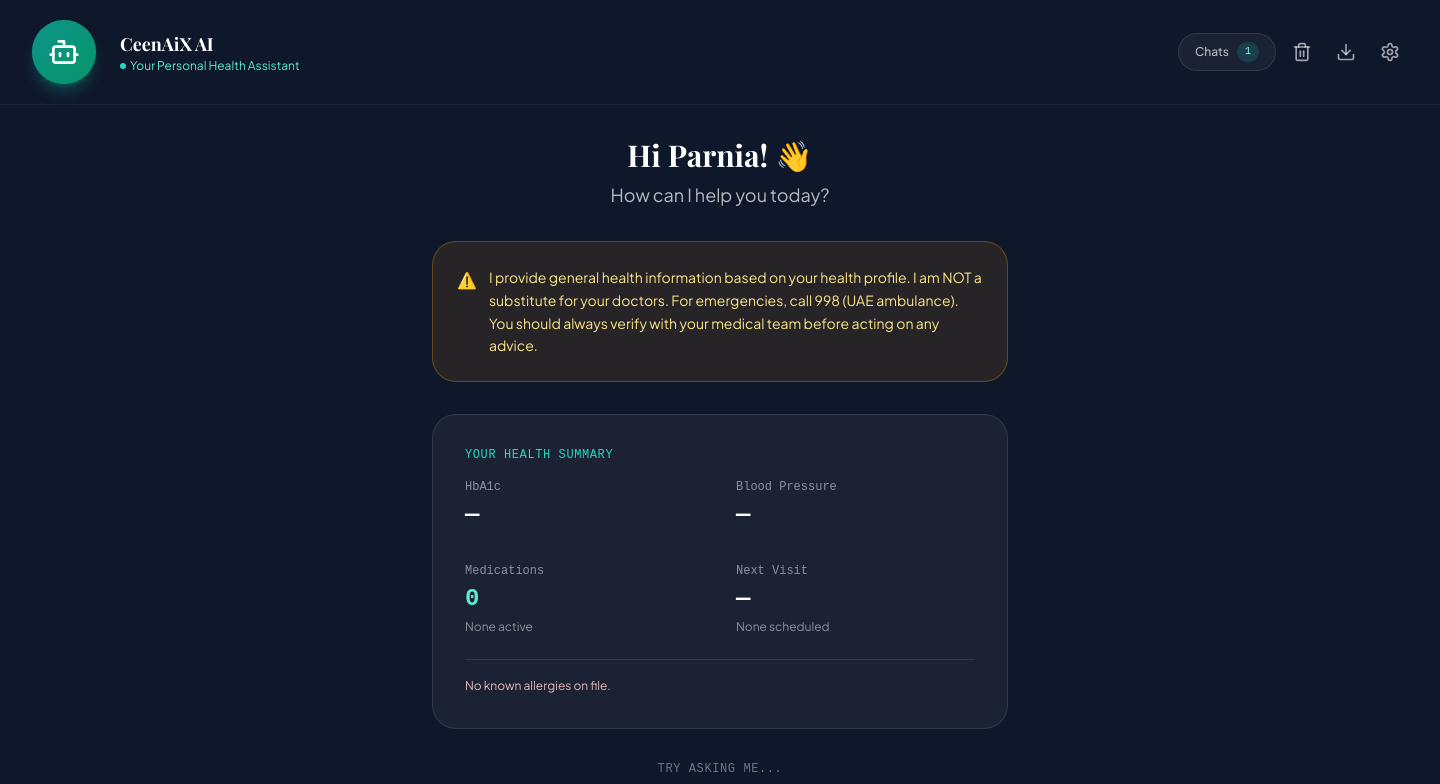
it: PatientAIChat › shows pending chat-derived record updates for the active session
The width and height of the screenshot is (1440, 784).
Click the button "Chats 1".
click(1227, 52)  # box [1178,33,1276,71]
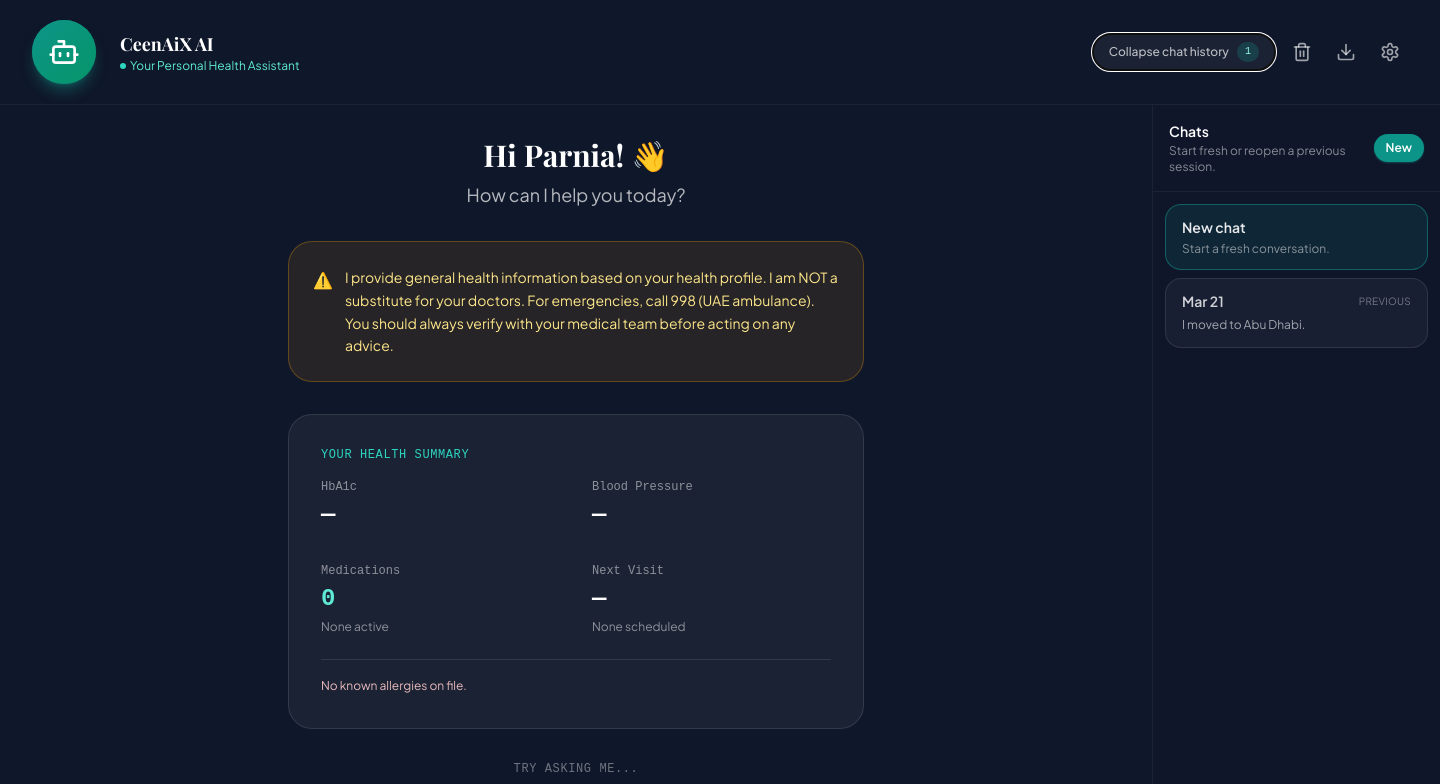
Click the button titled "I moved to Abu Dhabi.".
click(1203, 301)  # box [1165,278,1428,348]
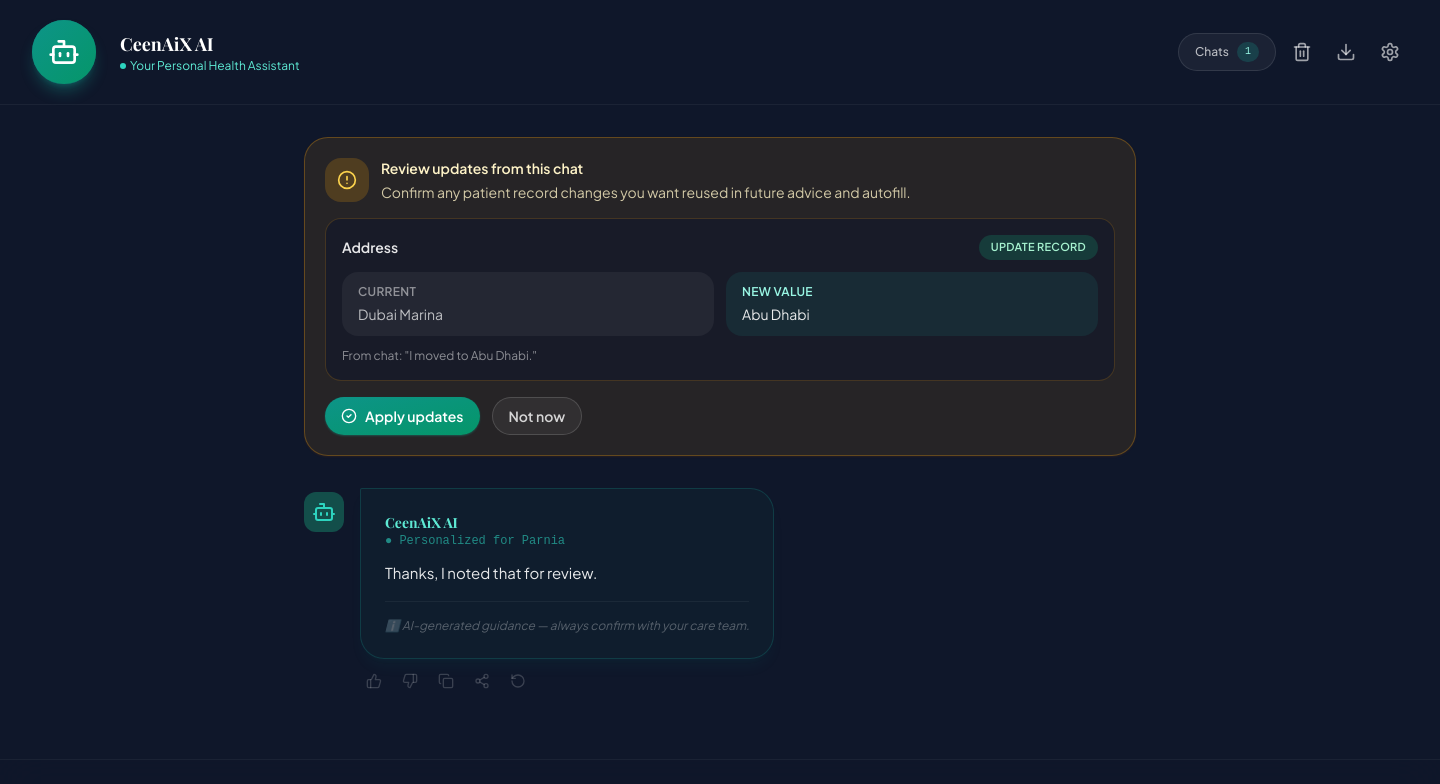
Result: the heading "Review updates from this chat" is shown at [381,159,583,177]
Result: the heading "Address" is shown at [342,237,398,257]
Result: the text "Dubai Marina" is shown at [358,304,443,322]
